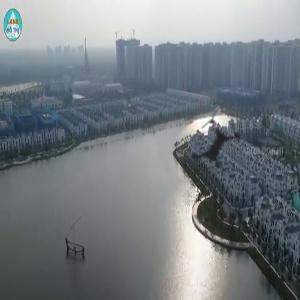drone: (162, 90, 267, 195)
